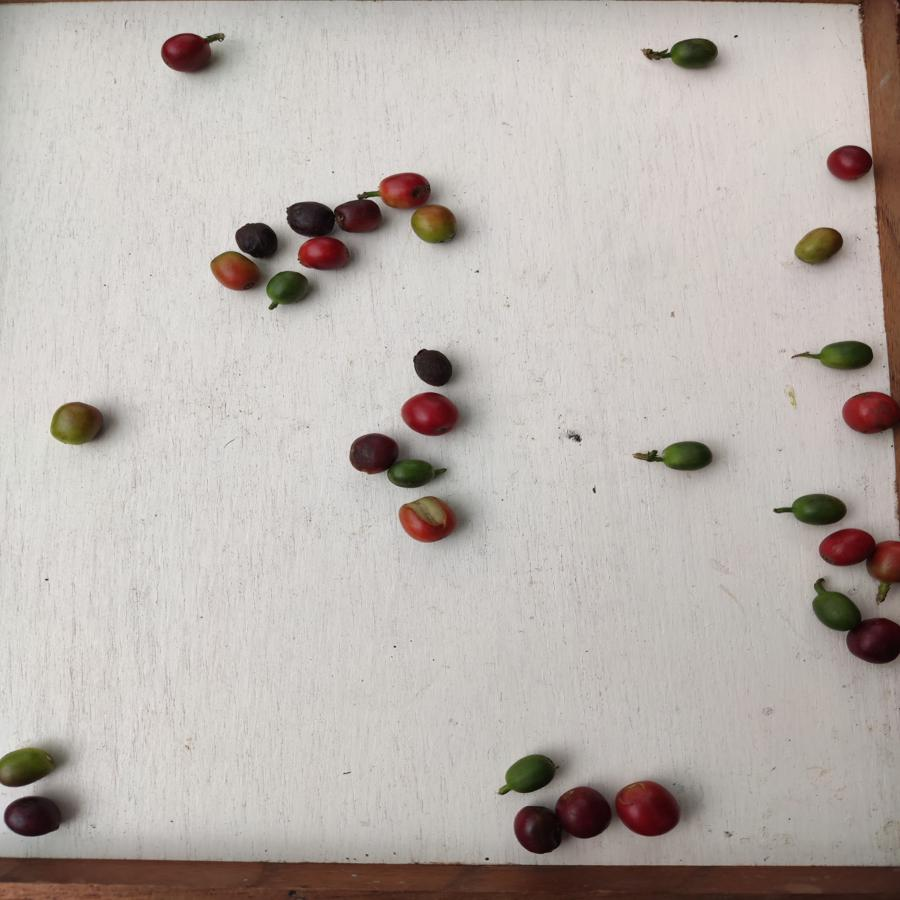Inmaduro: (500, 752, 560, 794), (808, 584, 863, 629), (787, 490, 851, 527), (817, 336, 876, 374), (265, 269, 311, 311), (660, 438, 713, 473), (669, 36, 720, 71), (385, 458, 441, 489)
Maduro: (615, 779, 683, 838), (393, 495, 458, 546), (397, 392, 459, 439), (839, 389, 898, 435), (819, 524, 876, 569), (377, 171, 429, 207), (294, 237, 352, 268), (868, 538, 900, 588)
Pinton: (46, 401, 106, 444), (1, 745, 57, 791), (790, 225, 847, 266), (210, 250, 260, 295), (409, 205, 463, 245)
Sobremaduro: (554, 785, 613, 841), (510, 805, 562, 860), (843, 617, 900, 664), (2, 795, 62, 839), (158, 31, 216, 73), (346, 428, 389, 477), (231, 220, 282, 260), (284, 199, 339, 236), (411, 346, 456, 390), (824, 145, 873, 183), (333, 197, 382, 234)
